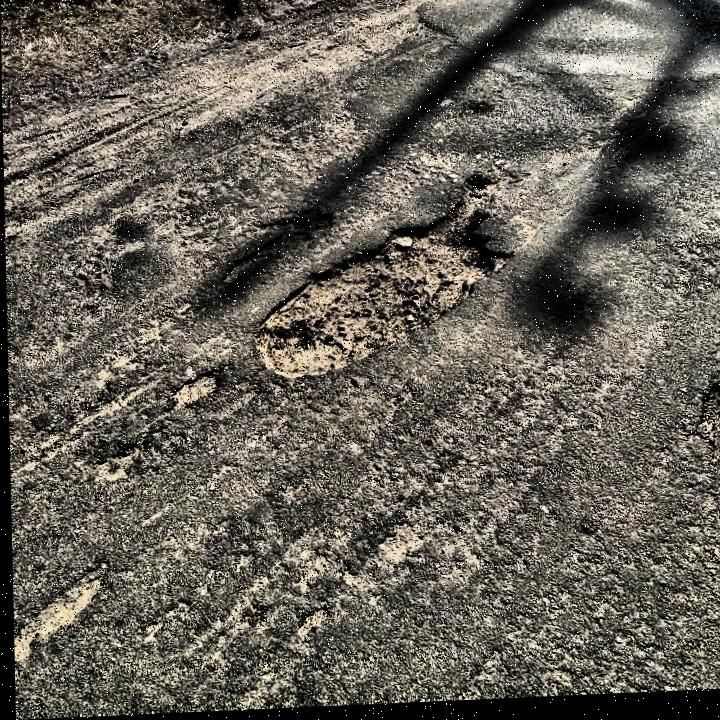pothole: (253, 172, 515, 387), (10, 557, 113, 661), (216, 206, 337, 293), (162, 367, 227, 413), (694, 385, 720, 475)
